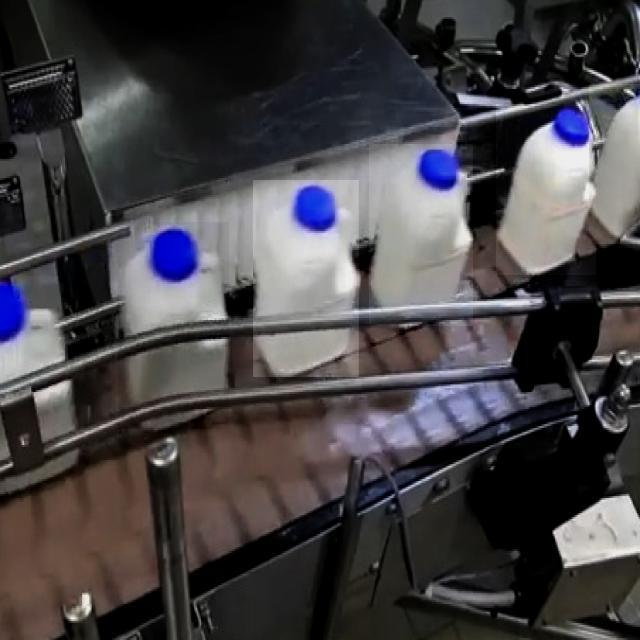milk: (115, 228, 235, 424), (258, 181, 362, 376), (374, 142, 480, 333), (1, 268, 81, 503), (502, 108, 604, 288)
